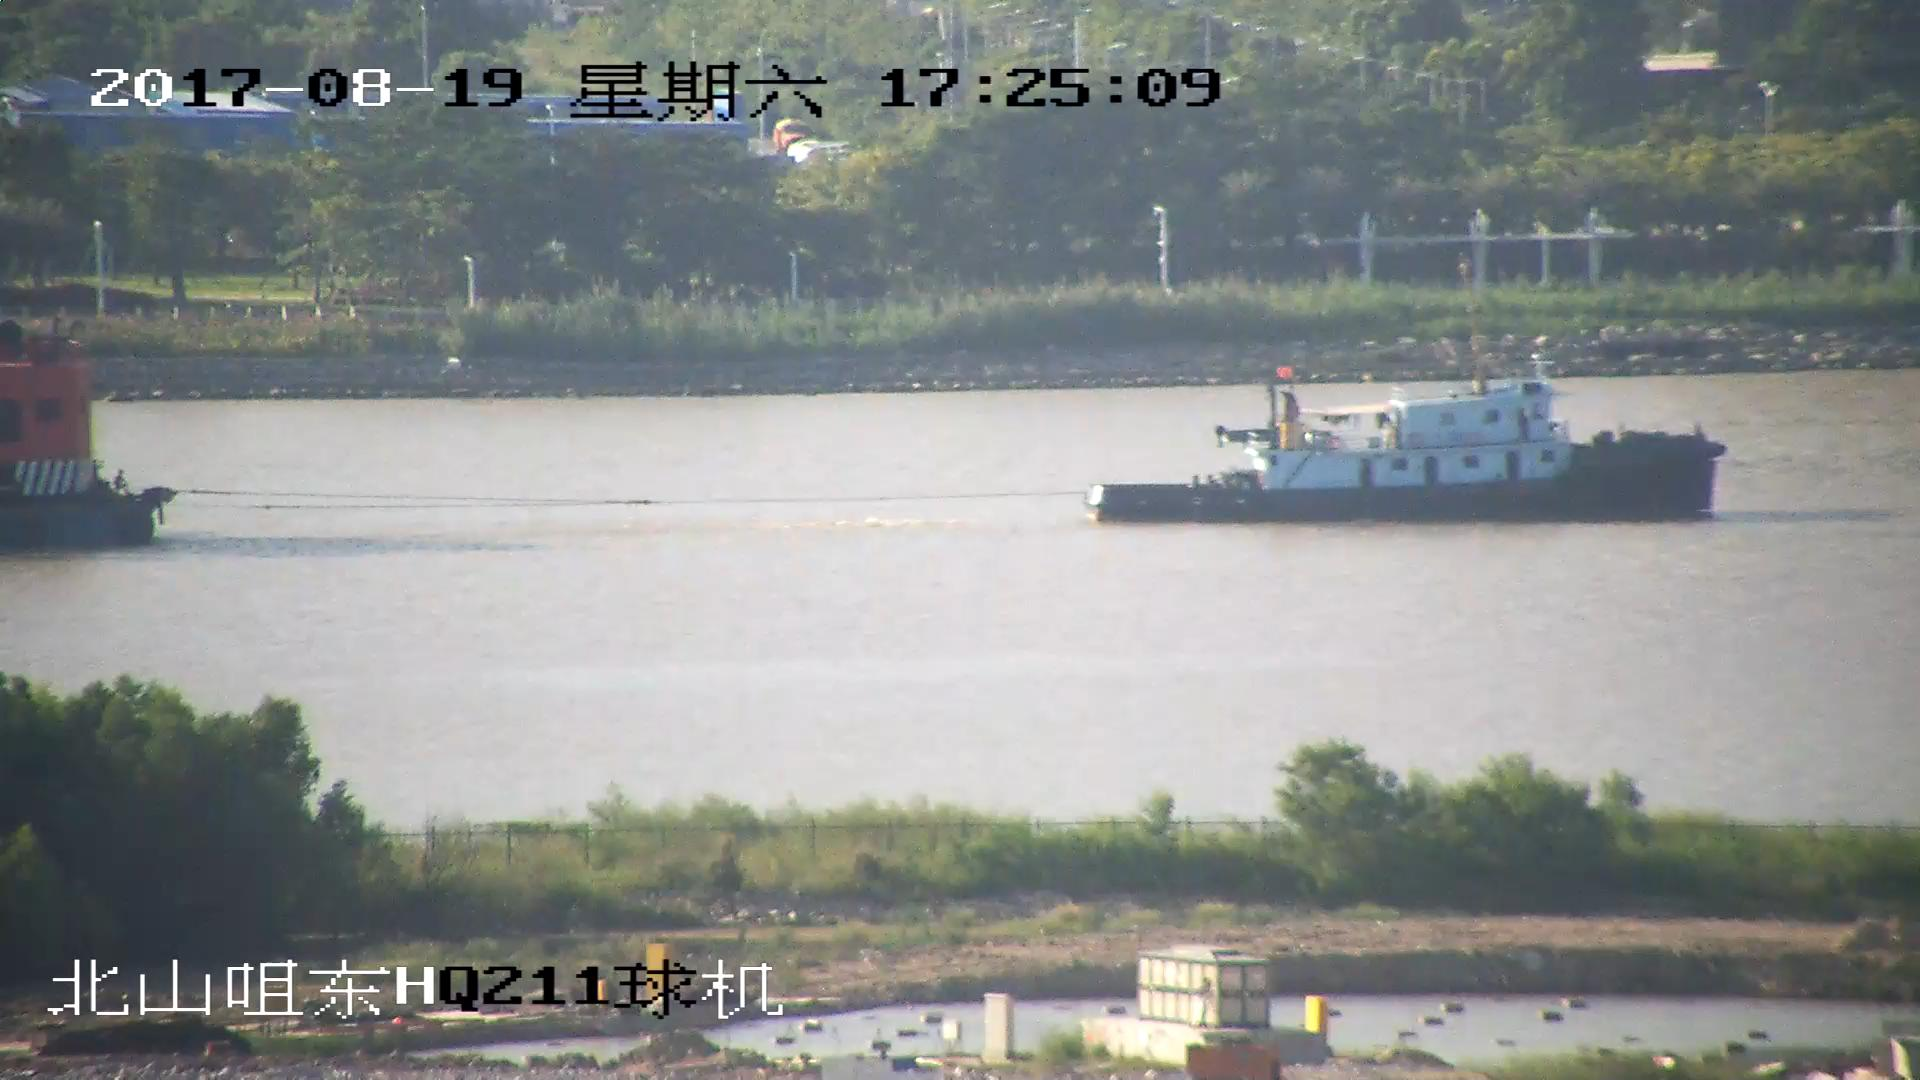fishing boat: (1087, 364, 1724, 529)
